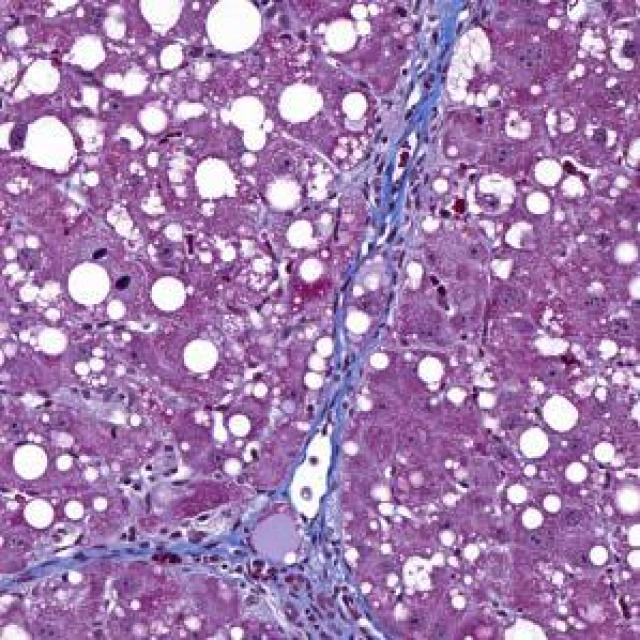fibrosis: (356, 15, 464, 223), (274, 406, 368, 640)
